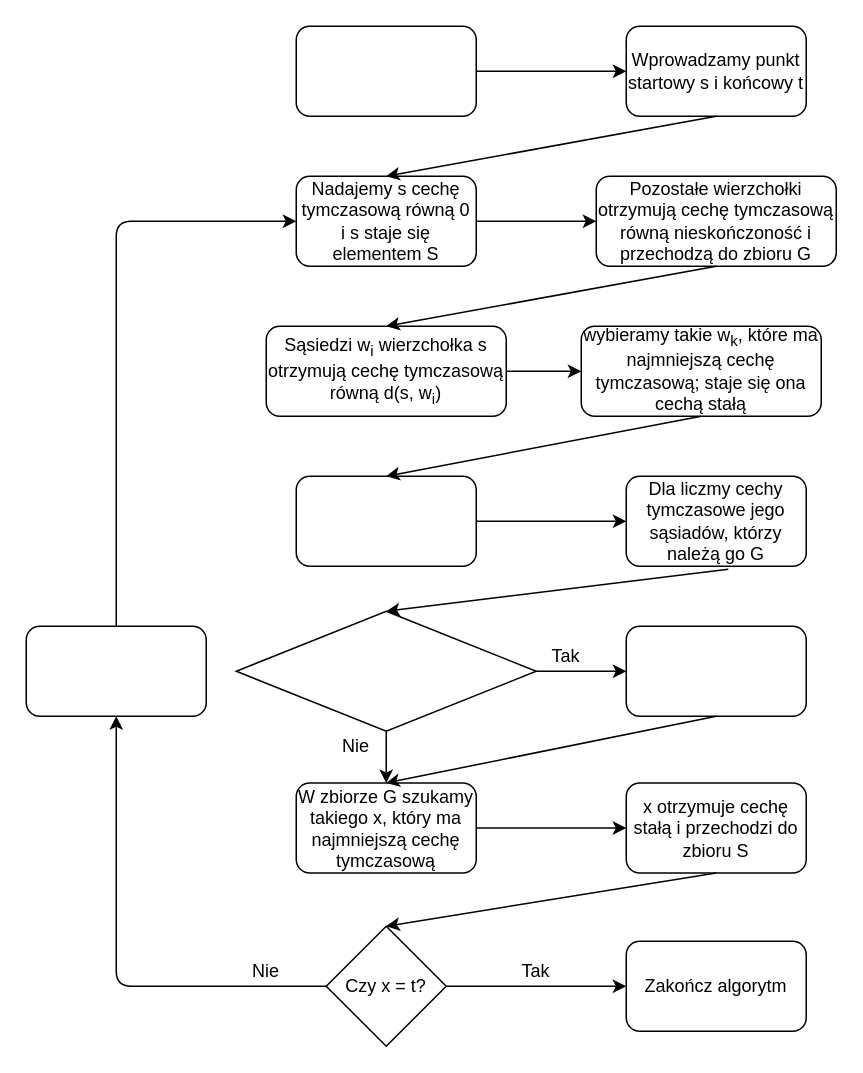
This 863x1073 diagram has some shape labels left out. The centre of each missing label's shape, as x and y in pixels:
Czy d(s, w i ) > d(s, w k ) + d(w k ,w j )?: the point at 385,670
d(s, w i ) = d(s, w k ) + d(w k ,w j ): the point at 715,670
s = x: the point at 115,670
Usuwamy wierzchołek w k ze zbioru G i dodajemy go do S: the point at 385,520
Wprowadzamy zbiór S i zbiór G: the point at 385,70
